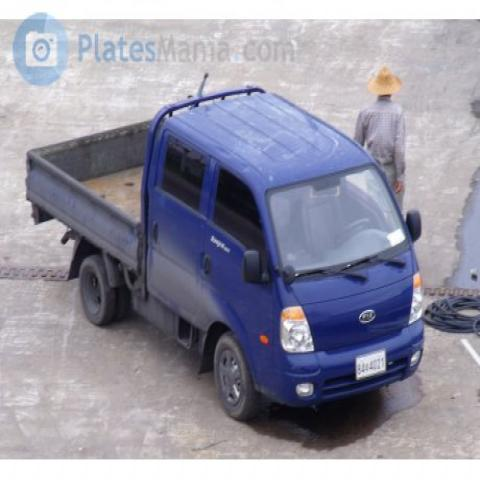LP: (345, 344, 393, 386)
